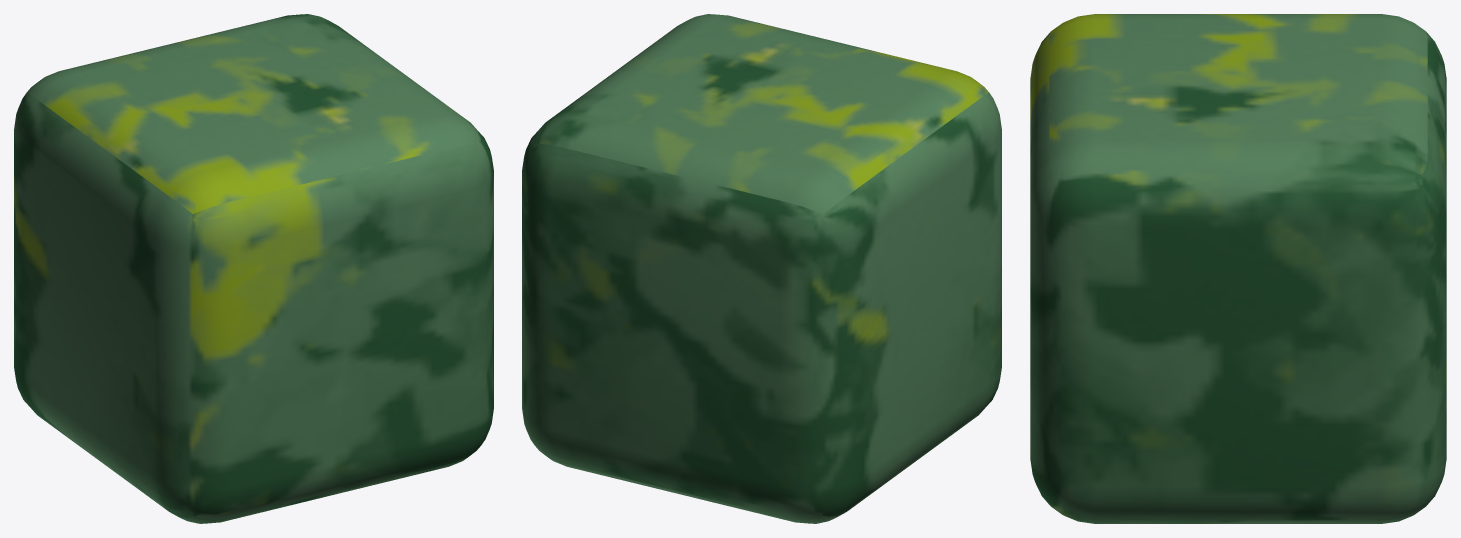
File: リーフブロック.fbx
The picture shows the model from 3 angles, left to right: view 1: azimuth 30°, elevation 25°; view 2: azimuth 150°, elevation 25°; view 3: azimuth 270°, elevation 25°; orthographic projection. The views are drawn at different scales.
Visible parts, largest first — view 1: リーフブロック; view 2: リーフブロック; view 3: リーフブロック.
Part boxes in pixels (<box>): リーフブロック: <box>14,14,493,523</box>; リーフブロック: <box>522,14,1001,523</box>; リーフブロック: <box>1030,14,1446,523</box>.
Bounding box in the file's own units: 200 × 200 × 200.
